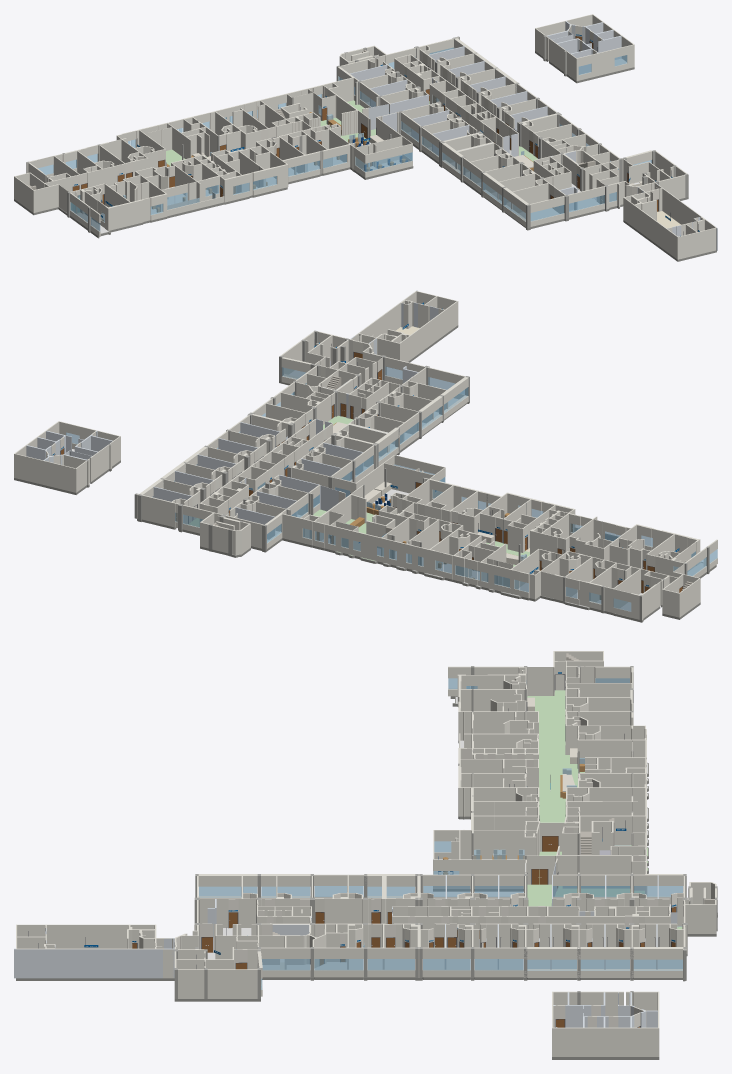
File: solca_p1.glb
3 renders of one model, top to bottom at view 1: azimuth 30°, elevation 25°; view 2: azimuth 150°, elevation 25°; view 3: azimuth 270°, elevation 25°, orthographic. The views are drawn at different scales.
Visible parts, largest first — view 1: muros|0.902,0.884,0.810|0.00, muros|0.810,0.865,0.922|0.00, muros|0.303,0.608,0.846|0.60, muros|0.462,0.462,0.436|0.00, pisos|0.384,0.384,0.360|0.00, pisos|0.865,0.865,0.865|0.00, muros|0.360,0.160,0.053|0.00, pisos|0.608,0.810,0.548|0.00, muros|0.102,0.109,0.130|0.00; view 2: muros|0.902,0.884,0.810|0.00, muros|0.810,0.865,0.922|0.00, muros|0.303,0.608,0.846|0.60, muros|0.462,0.462,0.436|0.00, pisos|0.384,0.384,0.360|0.00, pisos|0.865,0.865,0.865|0.00, muros|0.360,0.160,0.053|0.00, muebles|0.865,0.828,0.740|0.00, pisos|0.608,0.810,0.548|0.00; view 3: muros|0.902,0.884,0.810|0.00, muros|0.303,0.608,0.846|0.60, muros|0.810,0.865,0.922|0.00, pisos|0.608,0.810,0.548|0.00, pisos|0.865,0.865,0.865|0.00, muros|0.462,0.462,0.436|0.00, pisos|0.384,0.384,0.360|0.00, muros|0.360,0.160,0.053|0.00, muros|0.102,0.109,0.130|0.00.
Boxes of the visible parts, box(x1,y1,x2,y2) form: muros|0.902,0.884,0.810|0.00: box(14, 14, 716, 259); muros|0.810,0.865,0.922|0.00: box(350, 21, 717, 250); muros|0.303,0.608,0.846|0.60: box(38, 47, 651, 231); muros|0.462,0.462,0.436|0.00: box(26, 35, 688, 230); pisos|0.384,0.384,0.360|0.00: box(14, 51, 716, 261); pisos|0.865,0.865,0.865|0.00: box(77, 59, 626, 233); muros|0.360,0.160,0.053|0.00: box(73, 36, 658, 212); pisos|0.608,0.810,0.548|0.00: box(78, 100, 537, 212); muros|0.102,0.109,0.130|0.00: box(72, 36, 658, 211); muros|0.902,0.884,0.810|0.00: box(14, 291, 717, 620); muros|0.810,0.865,0.922|0.00: box(26, 290, 438, 539); muros|0.303,0.608,0.846|0.60: box(66, 366, 717, 611); muros|0.462,0.462,0.436|0.00: box(86, 330, 709, 620); pisos|0.384,0.384,0.360|0.00: box(14, 325, 716, 622); pisos|0.865,0.865,0.865|0.00: box(72, 370, 703, 611); muros|0.360,0.160,0.053|0.00: box(54, 352, 682, 593); muebles|0.865,0.828,0.740|0.00: box(284, 374, 524, 564); pisos|0.608,0.810,0.548|0.00: box(188, 415, 529, 566); muros|0.902,0.884,0.810|0.00: box(16, 651, 717, 1056); muros|0.303,0.608,0.846|0.60: box(199, 678, 682, 989); muros|0.810,0.865,0.922|0.00: box(14, 862, 677, 1027); pisos|0.608,0.810,0.548|0.00: box(434, 690, 682, 947); pisos|0.865,0.865,0.865|0.00: box(207, 697, 682, 969); muros|0.462,0.462,0.436|0.00: box(174, 666, 717, 1005); pisos|0.384,0.384,0.360|0.00: box(16, 690, 717, 1059); muros|0.360,0.160,0.053|0.00: box(132, 836, 675, 1027); muros|0.102,0.109,0.130|0.00: box(132, 674, 676, 1027).
Size of the model in its own units: 107 by 4.2 by 84.81.
